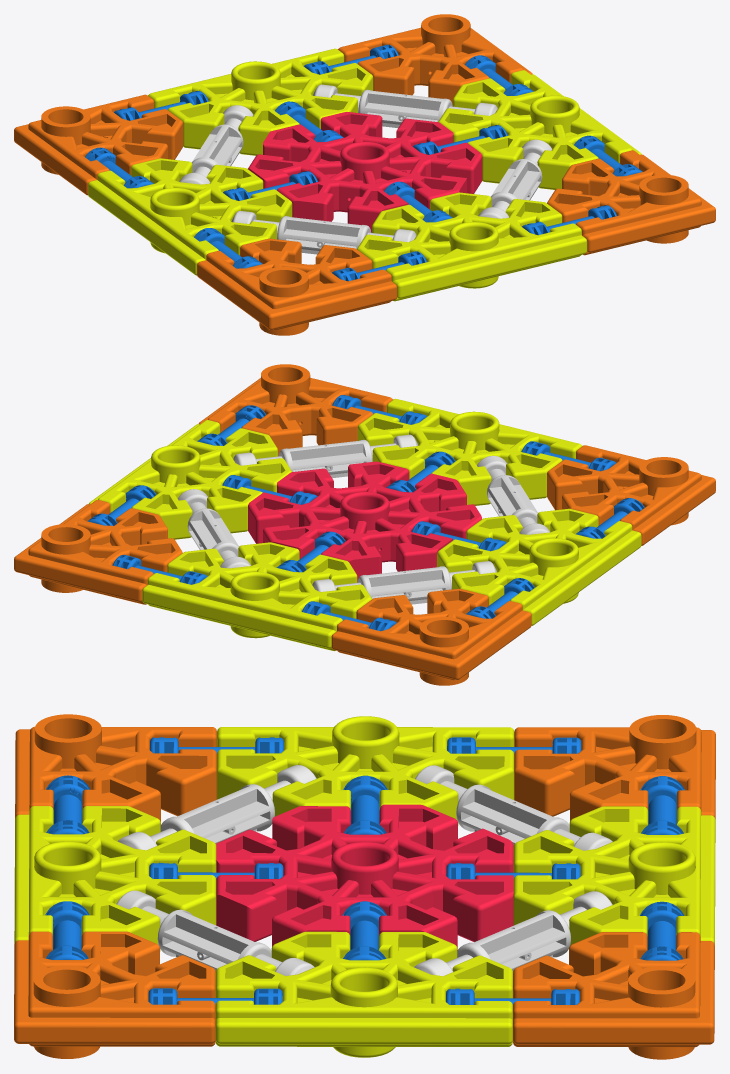
3 renders of one model, top to bottom at view 1: azimuth 30°, elevation 25°; view 2: azimuth 150°, elevation 25°; view 3: azimuth 270°, elevation 25°, orthographic. The views are drawn at different scales.
Parts seen in each view (by area): view 1: Untitled.022, Untitled.013, Untitled.021, Untitled.015, Untitled, Untitled.007, Untitled.011, Untitled.025, Untitled.004, Untitled.018, Untitled.005, Untitled.026 (+13 smaller); view 2: Untitled.022, Untitled, Untitled.021, Untitled.025, Untitled.013, Untitled.007, Untitled.004, Untitled.015, Untitled.011, Untitled.026, Untitled.012, Untitled.005 (+13 smaller); view 3: Untitled.022, Untitled.007, Untitled.011, Untitled.004, Untitled, Untitled.013, Untitled.021, Untitled.025, Untitled.015, Untitled.018, Untitled.012, Untitled.005 (+13 smaller).
Part boxes in pixels (x1,y1,x2,y2): Untitled.022: (248, 112, 482, 232); Untitled.013: (357, 192, 587, 301); Untitled.021: (88, 158, 292, 275); Untitled.015: (197, 238, 397, 335); Untitled: (148, 48, 373, 155); Untitled.007: (438, 70, 641, 189); Untitled.011: (547, 150, 715, 255); Untitled.025: (14, 94, 183, 195); Untitled.004: (337, 14, 532, 106); Untitled.018: (231, 211, 416, 254); Untitled.005: (313, 84, 497, 127); Untitled.026: (179, 105, 253, 184); Untitled.022: (248, 461, 481, 582); Untitled: (142, 542, 371, 651); Untitled.021: (437, 508, 641, 625); Untitled.025: (331, 588, 531, 685); Untitled.013: (357, 398, 582, 505); Untitled.007: (89, 420, 291, 539); Untitled.004: (14, 500, 182, 604); Untitled.015: (547, 445, 715, 545); Untitled.011: (198, 364, 393, 456); Untitled.026: (312, 561, 496, 604); Untitled.012: (233, 434, 418, 478); Untitled.005: (178, 489, 251, 568); Untitled.022: (216, 804, 513, 950); Untitled.007: (215, 931, 512, 1057); Untitled.011: (14, 931, 215, 1058); Untitled.004: (513, 932, 714, 1059); Untitled: (513, 806, 715, 945); Untitled.013: (14, 806, 216, 951); Untitled.021: (217, 716, 514, 825); Untitled.025: (514, 715, 715, 821); Untitled.015: (15, 714, 216, 824); Untitled.018: (117, 765, 316, 850); Untitled.012: (116, 890, 314, 975); Untitled.005: (414, 891, 612, 976).
Size of the model in its own units: 1.46 by 0.15 by 1.46.
